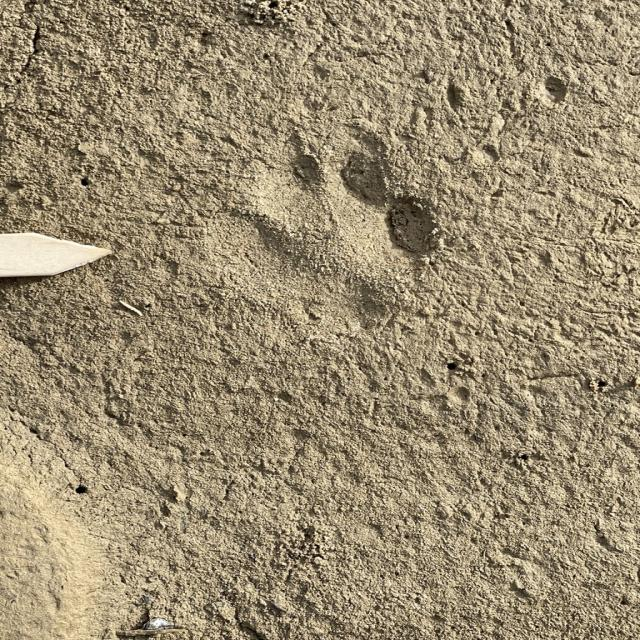canid: (218, 154, 444, 336)
